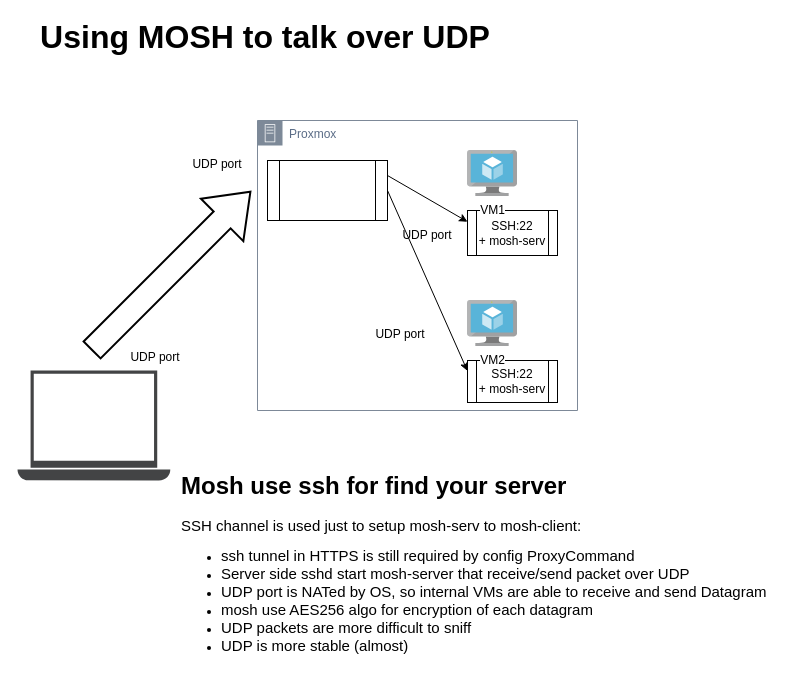
Image size: 805x692. Some labels were removed from this diagram. The shapes that lost their labels are listed below. From the top down, each one's centre as x and y in pixels, then its label:
At (327,190): "NGINX HTTPS:443 stream".
At (93,425): "mosh-client + SSH".
